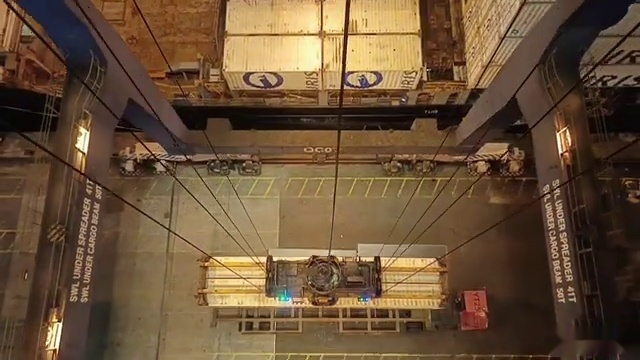container: (187, 248, 469, 312), (217, 33, 428, 93), (223, 0, 421, 33), (213, 0, 439, 25), (206, 0, 435, 23), (214, 0, 430, 19), (213, 0, 437, 14), (210, 0, 441, 11)
guide_mark: (103, 178, 540, 198), (62, 354, 562, 360)
spreader: (185, 248, 458, 316)
target_slot: (198, 274, 463, 339)
